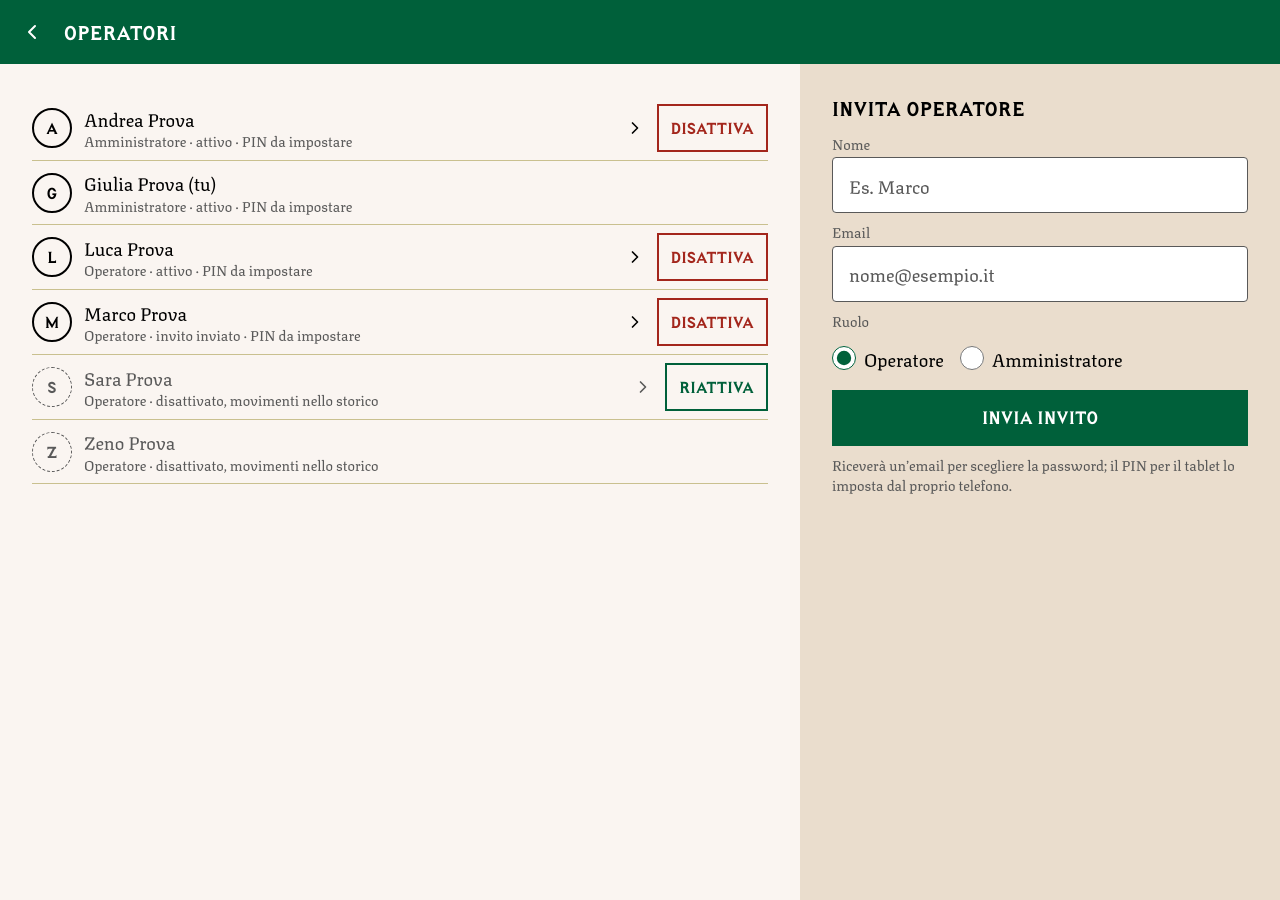
Test: OperatorDialog: the role › admin-from-device: the text in the dialog, nothing reloaded
The image size is (1280, 900).
Click the button "Luca Prova Operatore · attivo · PIN da impostare": [129, 247] box [84, 233, 644, 281]
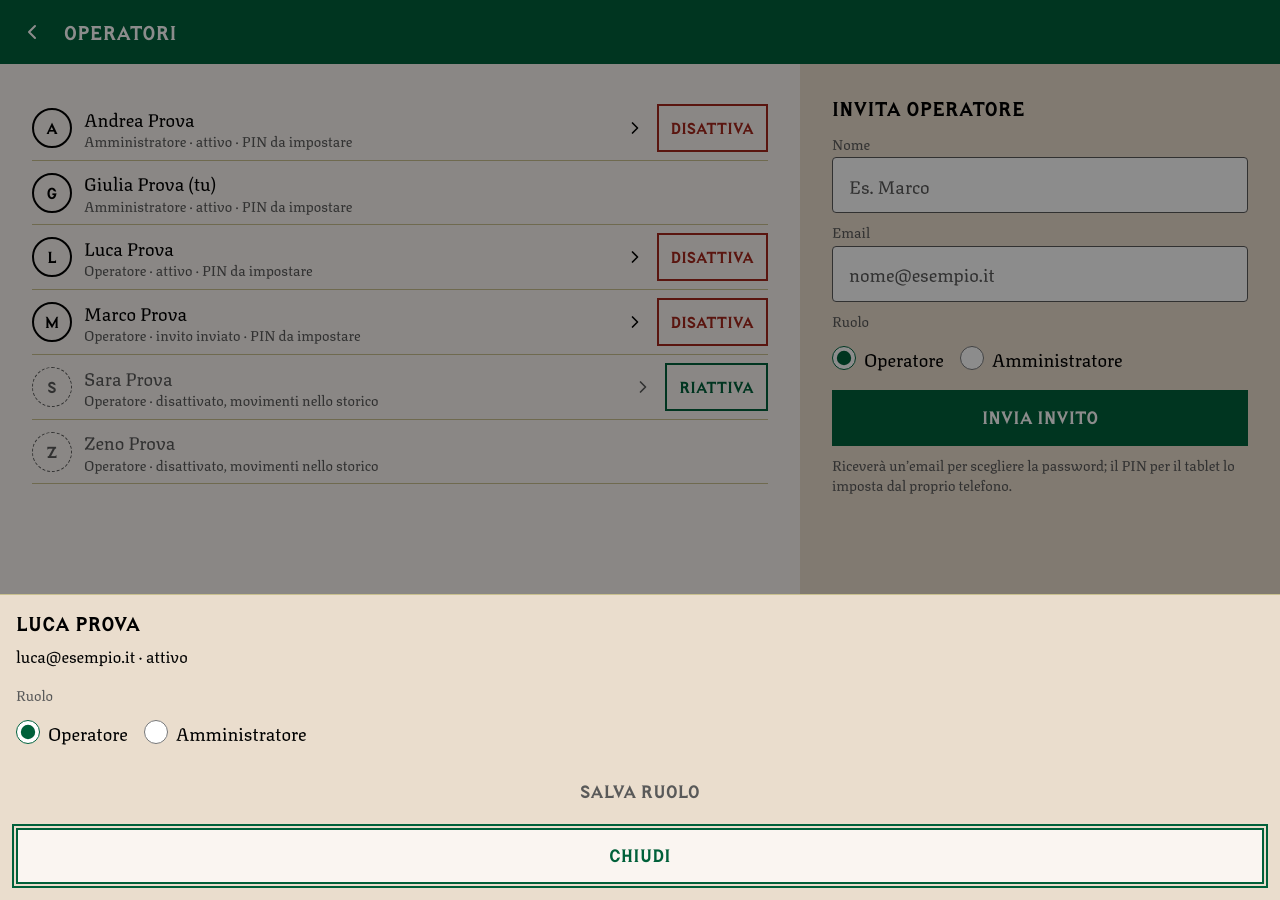
Click the radio button labelled "Amministratore": [156, 732] box [144, 720, 168, 744]
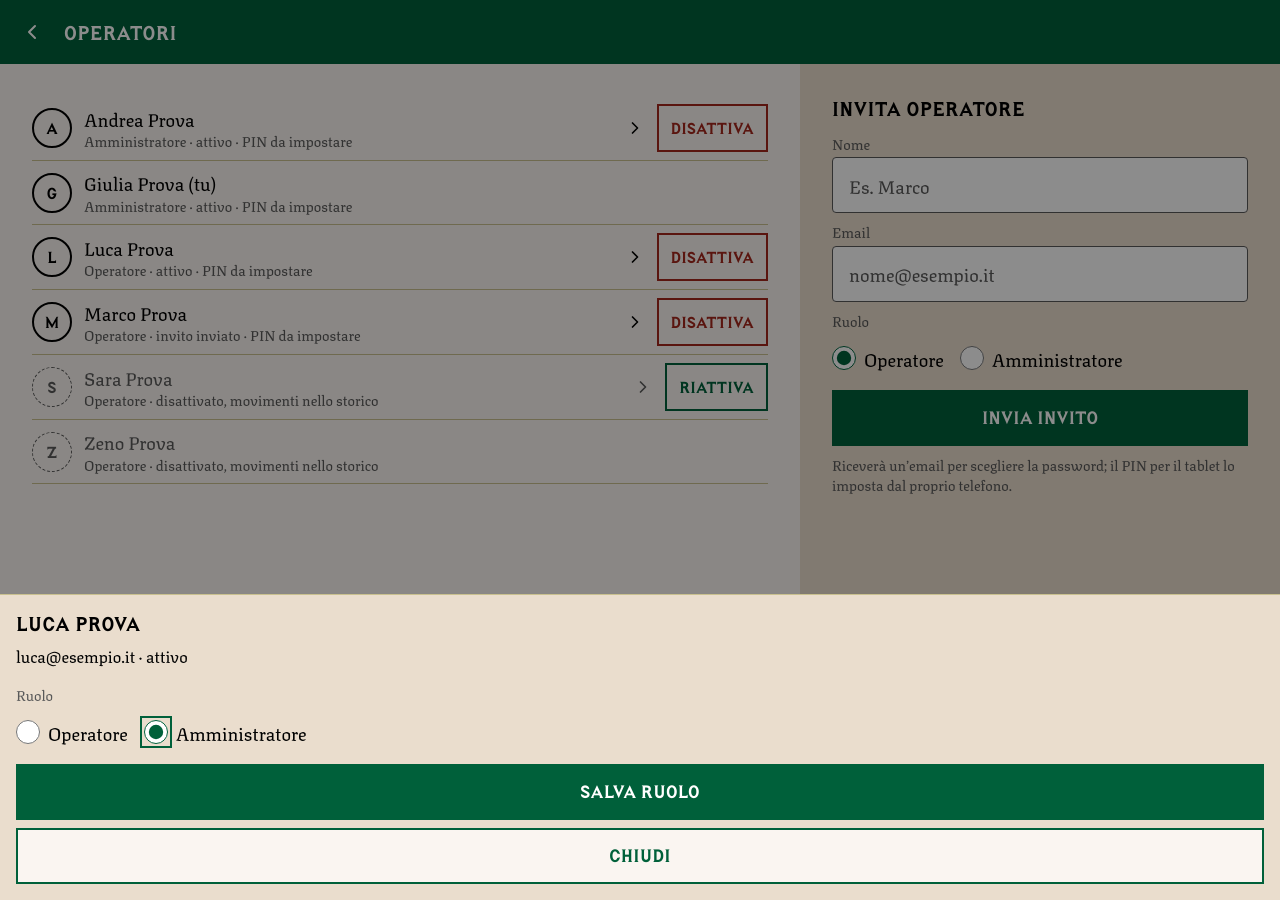
Click the button "Salva ruolo": [640, 792] box [16, 764, 1264, 820]
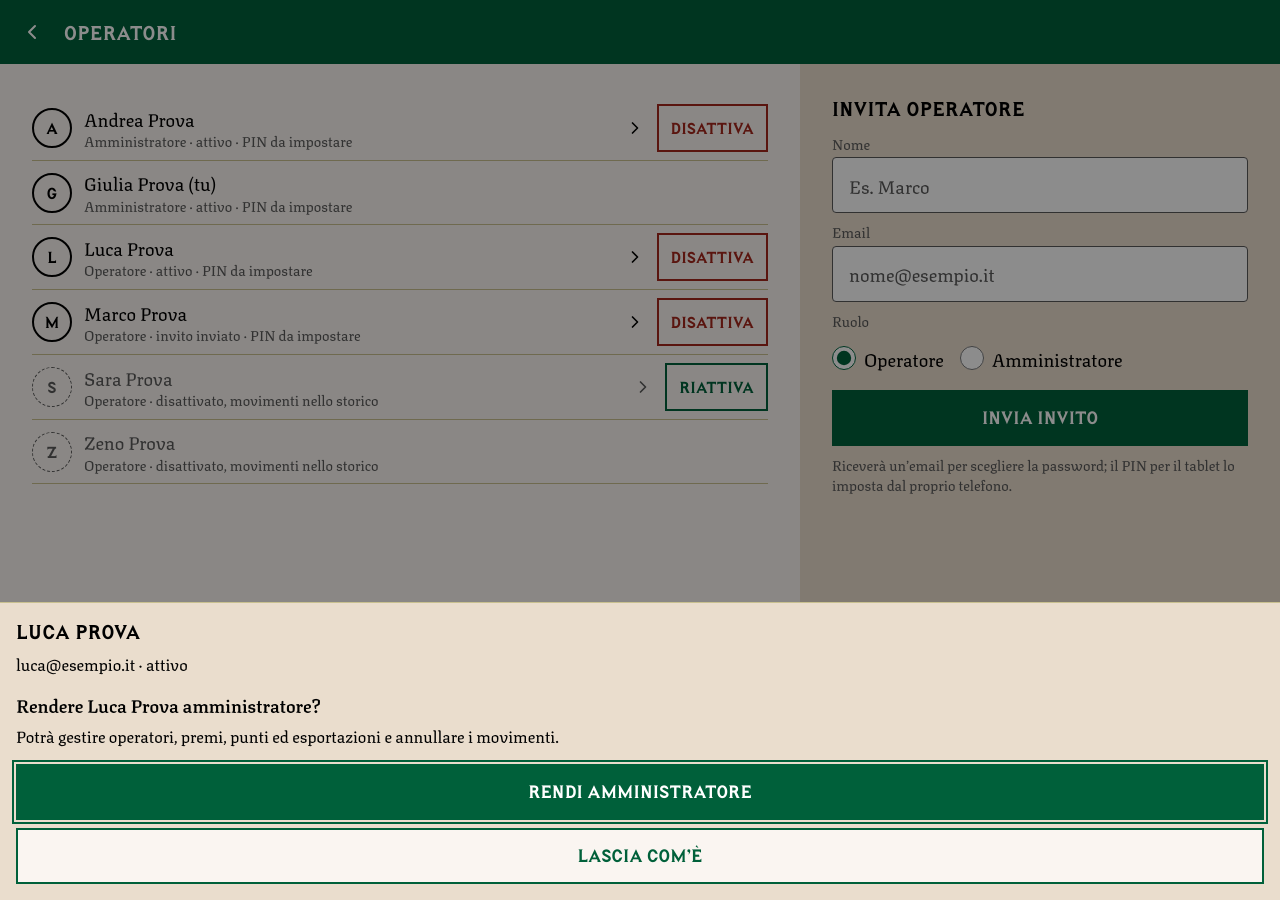
Click the button "Rendi amministratore": [640, 792] box [16, 764, 1264, 820]
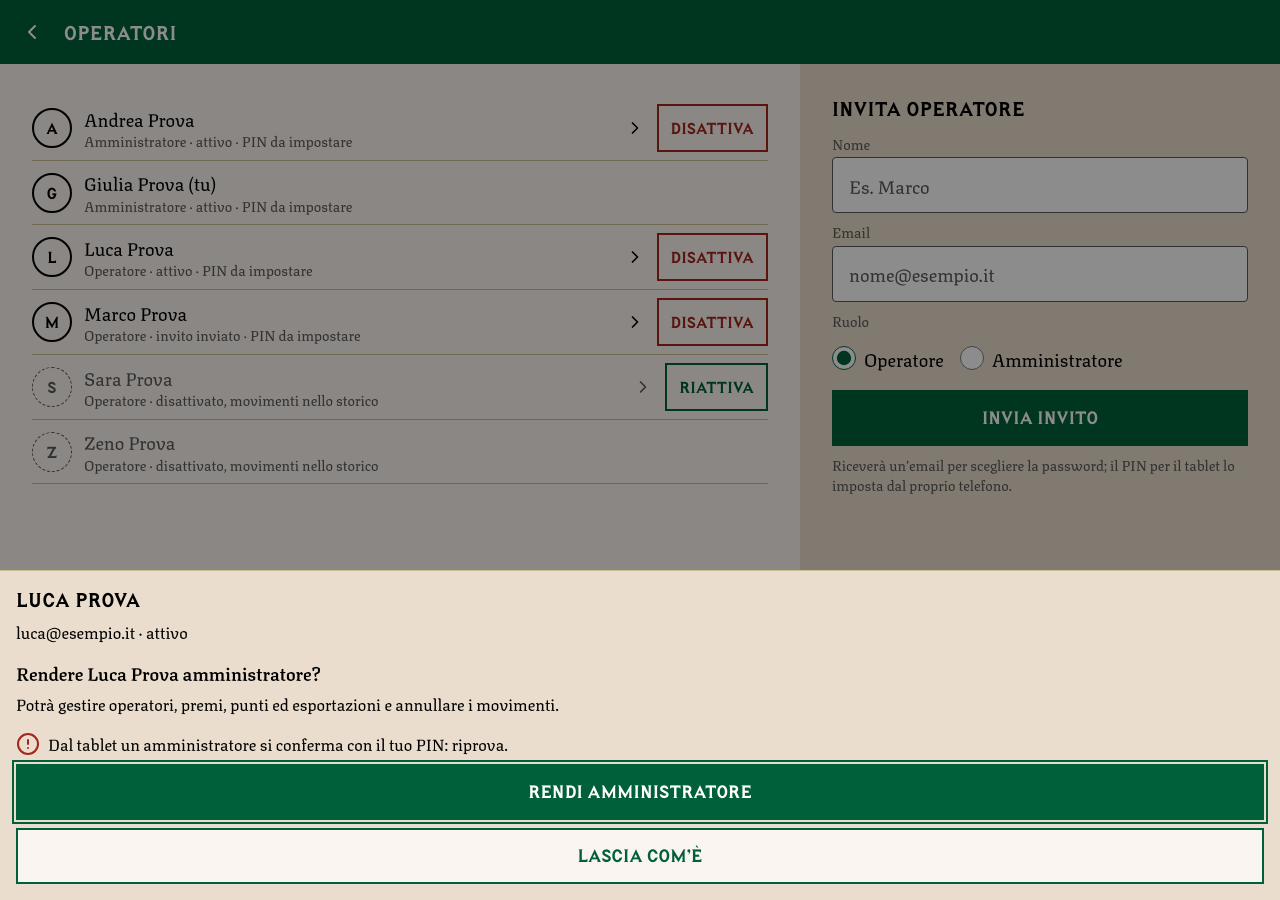
Now the message reads "Dal tablet un amministratore si conferma con il tuo PIN: riprova.", box [48, 731, 508, 756]
